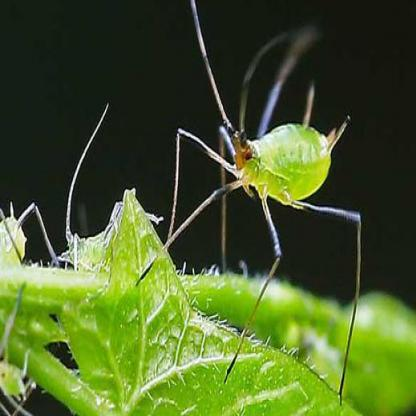aphid: (174, 82, 370, 331)
